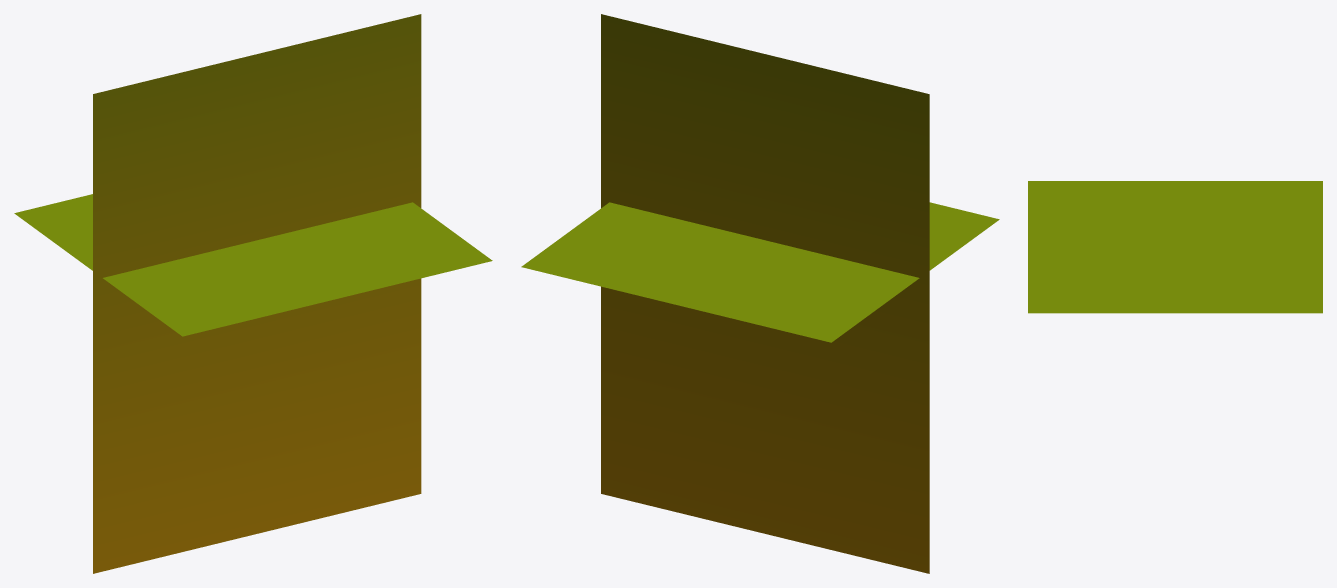
File: Water Cabbage_LOD3_Var3_sjdlV.fbx
The picture shows the model from 3 angles, left to right: view 1: azimuth 30°, elevation 25°; view 2: azimuth 150°, elevation 25°; view 3: azimuth 270°, elevation 25°; orthographic projection. The views are drawn at different scales.
Parts seen in each view (by area): view 1: _11d5_Var3_LOD3; view 2: _11d5_Var3_LOD3; view 3: _11d5_Var3_LOD3.
Boxes of the visible parts, x1,y1,x2,y2 form: _11d5_Var3_LOD3: (14, 14, 492, 573); _11d5_Var3_LOD3: (521, 14, 999, 573); _11d5_Var3_LOD3: (1028, 181, 1322, 313).
Size of the model in its own units: 18.61 by 25.97 by 16.53.
